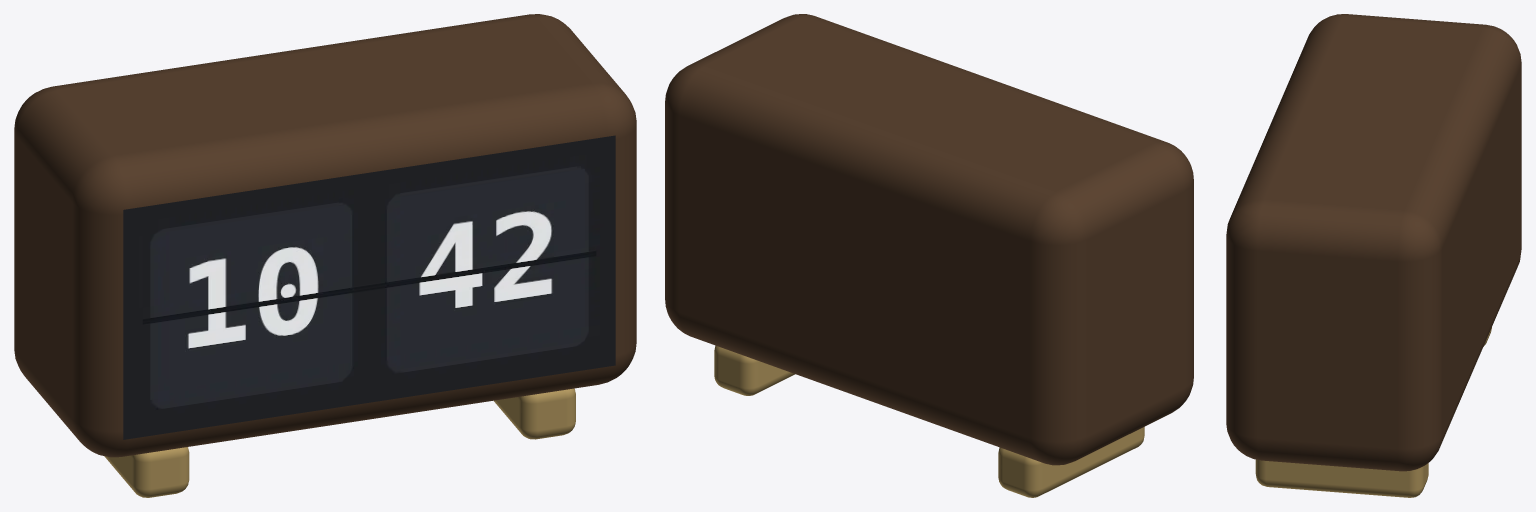
File: atelier-decor-clock-heritage.glb
3 views of the same model, side by side, from view 1: azimuth 30°, elevation 25°; view 2: azimuth 150°, elevation 25°; view 3: azimuth 270°, elevation 25° (orthographic). The views are drawn at different scales.
Bounding box in the file's own units: 0.1656 × 0.102 × 0.0928.
Materials: 3 (1 with a texture image).
